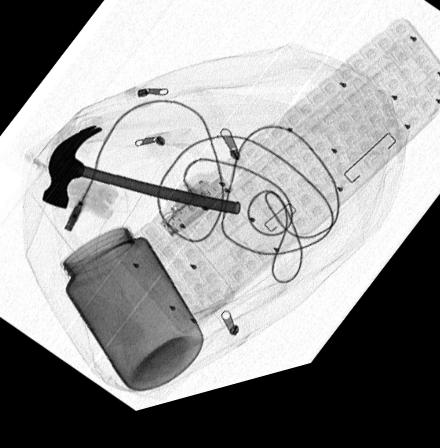Hammer: (41, 128, 241, 227)
